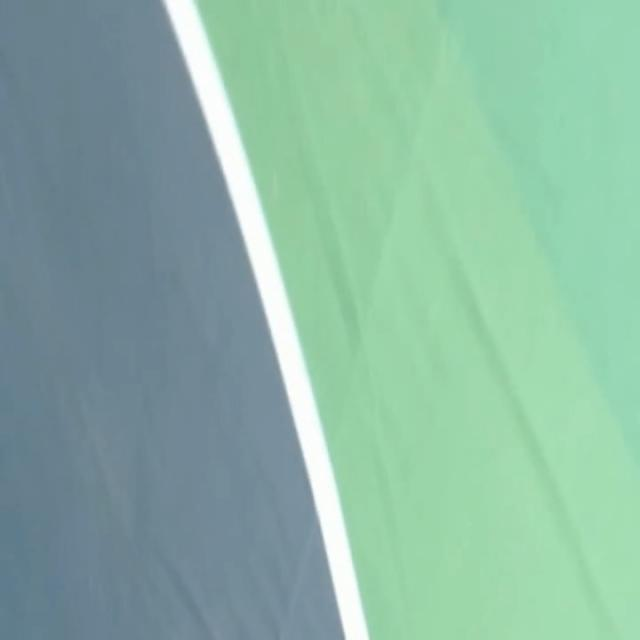right: (164, 0, 368, 639)
